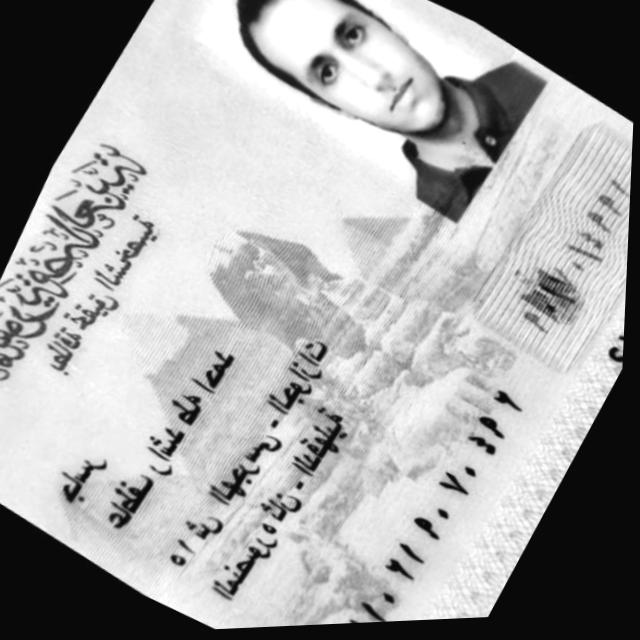id_card: (0, 0, 633, 629)
